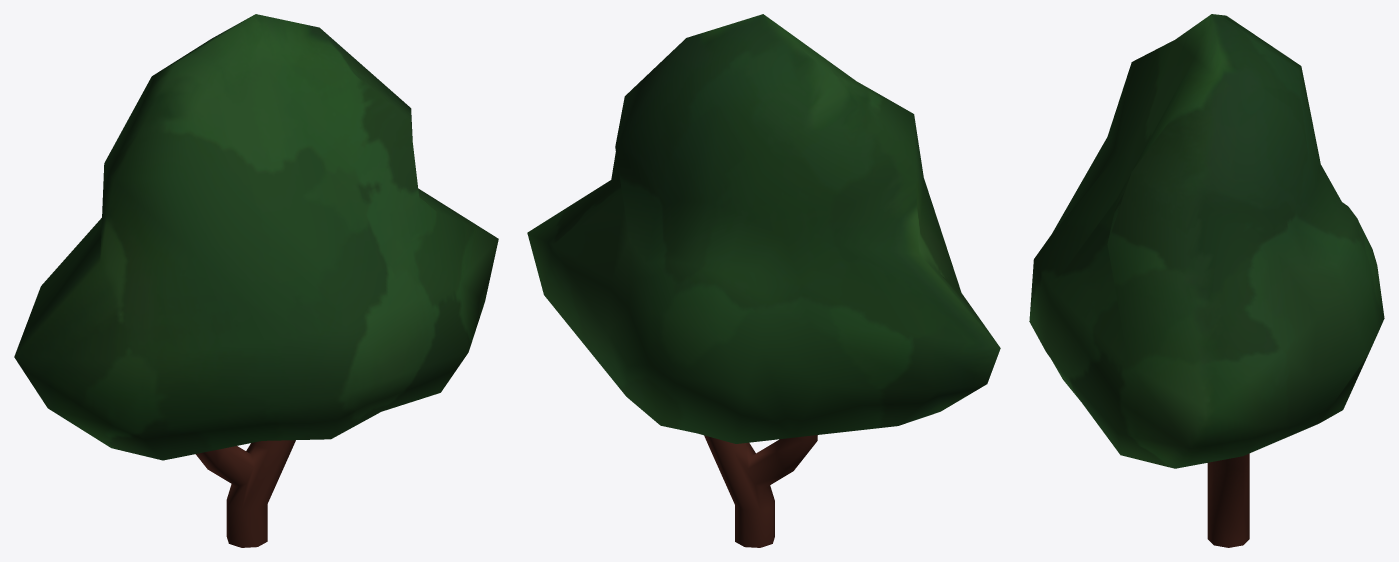
File: Bush_02.fbx
3 renders of one model, left to right at view 1: azimuth 30°, elevation 25°; view 2: azimuth 150°, elevation 25°; view 3: azimuth 270°, elevation 25°, orthographic. The views are drawn at different scales.
Parts seen in each view (by area): view 1: Bush.003; view 2: Bush.003; view 3: Bush.003.
Part boxes in pixels (x1=…): Bush.003: x1=14, y1=14, x2=498, y2=547; Bush.003: x1=527, y1=14, x2=1000, y2=547; Bush.003: x1=1029, y1=14, x2=1384, y2=547.
Bounding box in the file's own units: 313 × 328 × 201.
1 material, 1 textured.
